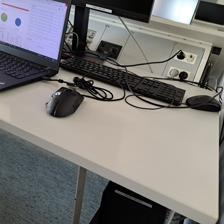mouse: (44, 87, 84, 118)
